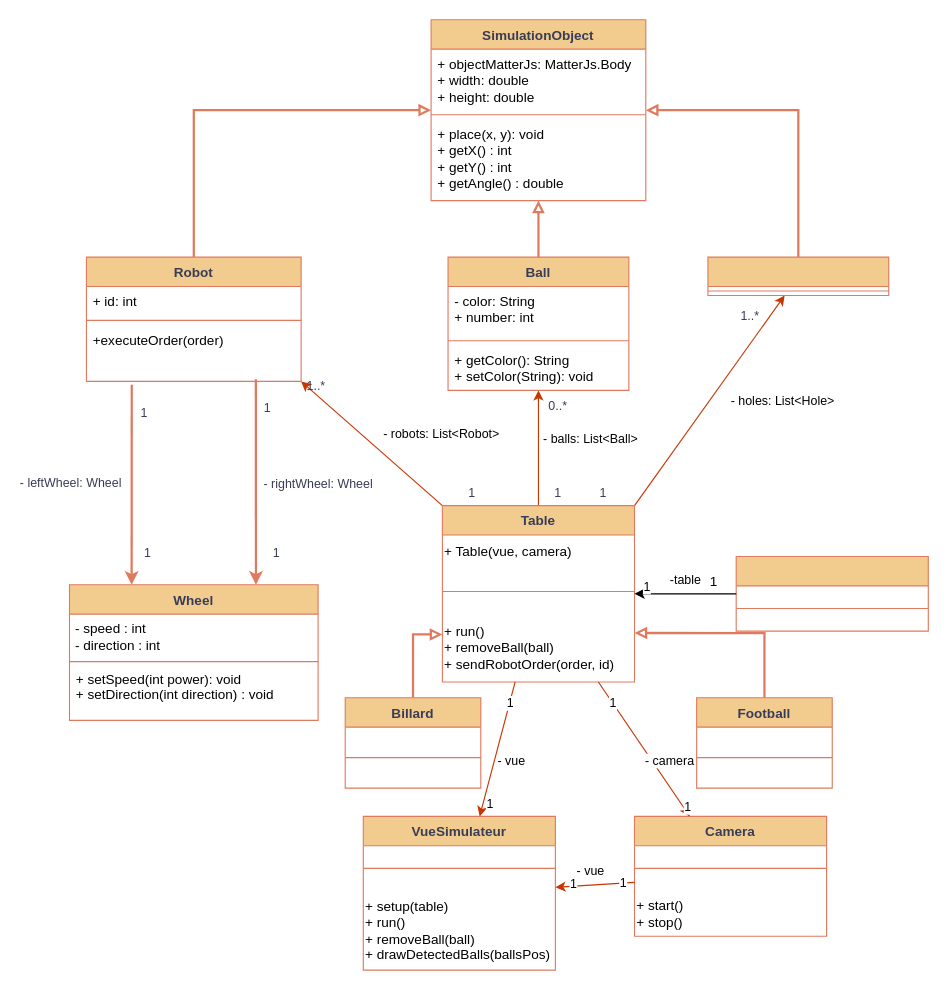
This 948x990 diagram has some shape labels left out. Here are the shapes that lost their labels. From the top down, the centre of each, then its label:
the point at 798,275: Hole
the point at 831,593: CollisionController
